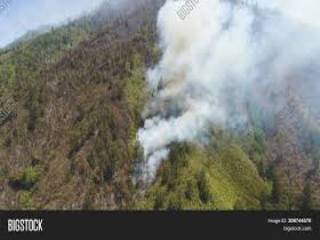smoke: (129, 96, 227, 168), (149, 5, 217, 105)
